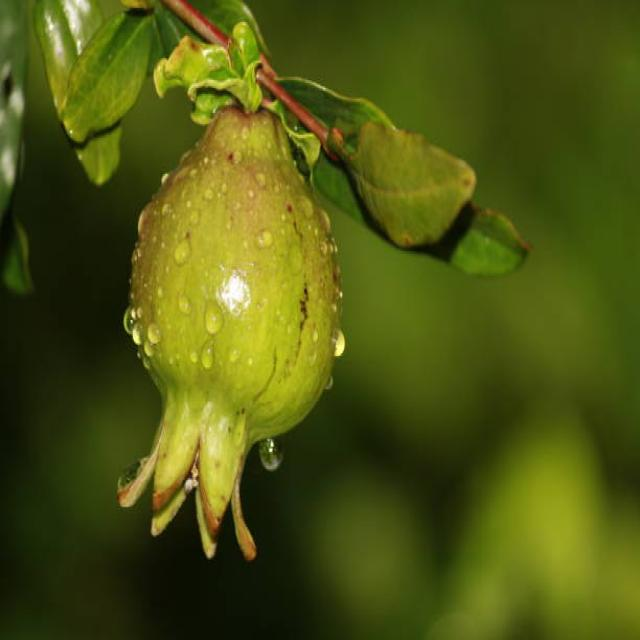Unripe: (119, 101, 339, 563)
